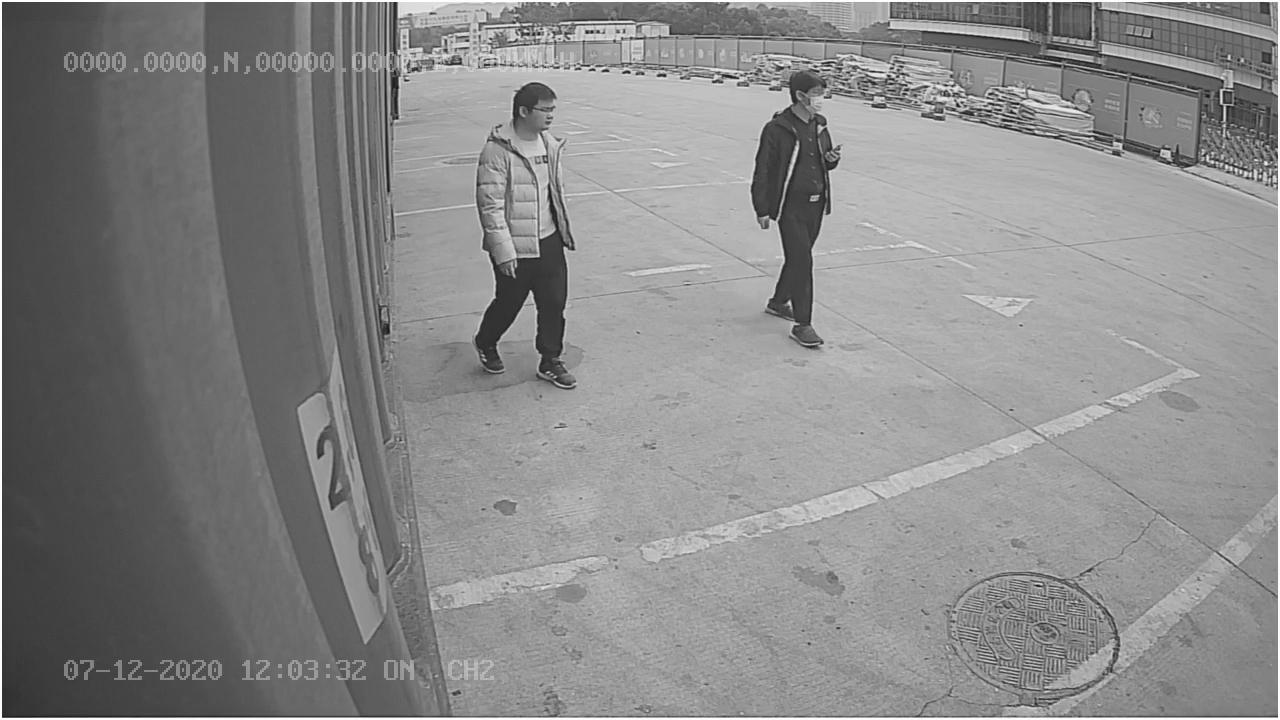person: (472, 78, 588, 386), (746, 65, 848, 346)
